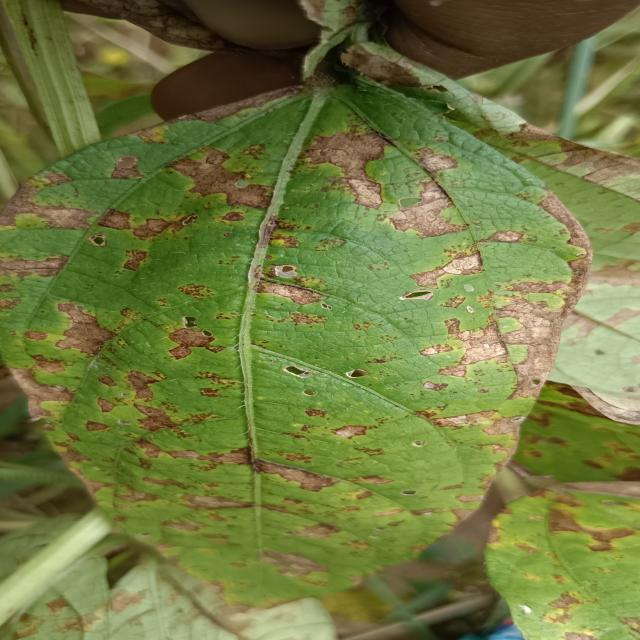Black gram_leaf spot: (0, 73, 595, 626)
